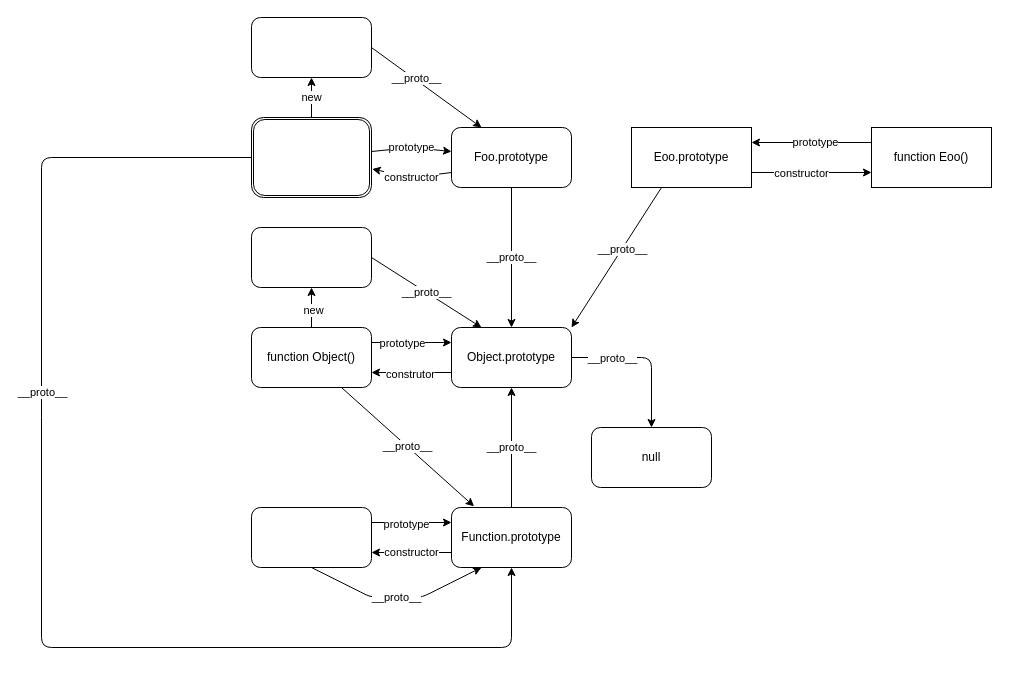
Image size: 1009x673. Some labels were removed from this diagram. Each missing label, with the centre of its shape:
const f = new Foo(): [311,47]
const o = new Object(): [311,257]
function Foo(): [311,157]
function Function(): [311,537]
